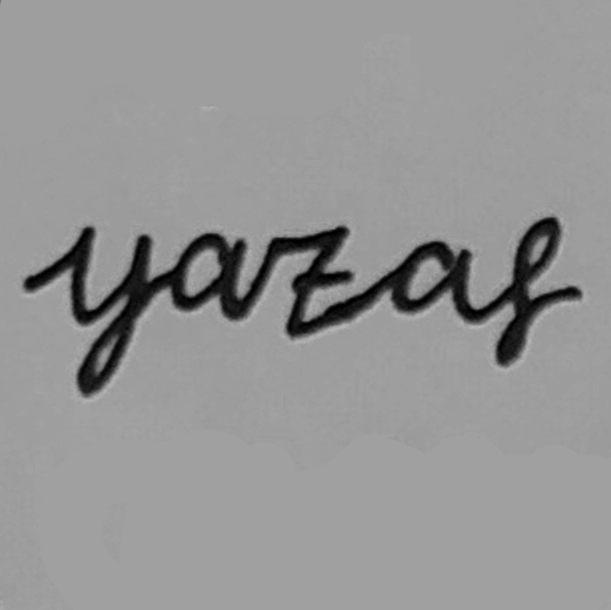a: (343, 268, 393, 319), (235, 266, 279, 315)
s: (396, 259, 446, 339)
y: (180, 264, 234, 355)
z: (282, 264, 336, 326)
